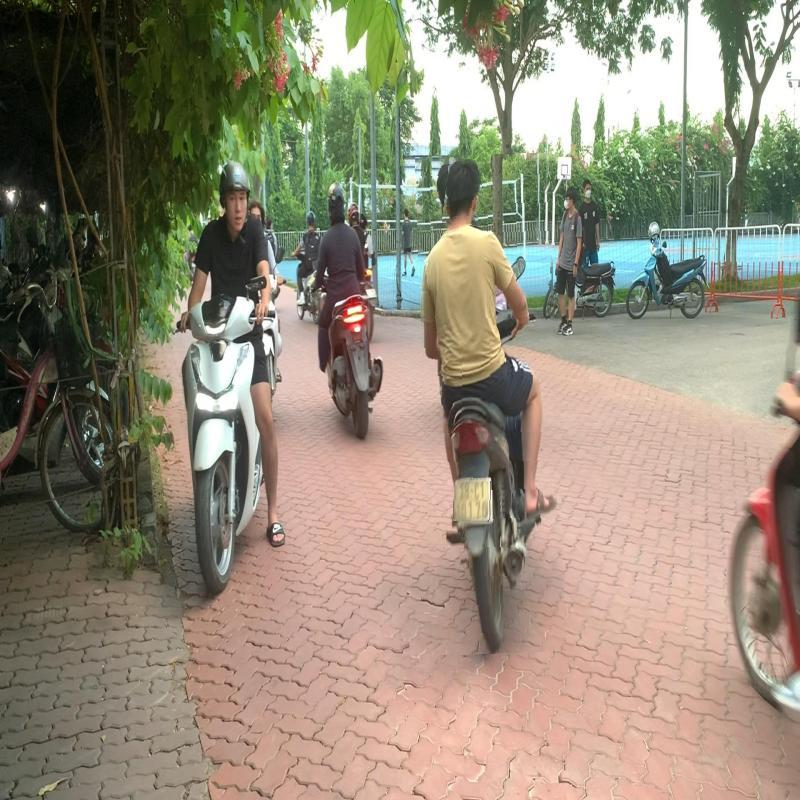licenseplate: (452, 478, 490, 522)
motorcyclist: (420, 153, 562, 654)
nohelmet: (444, 158, 484, 225)
